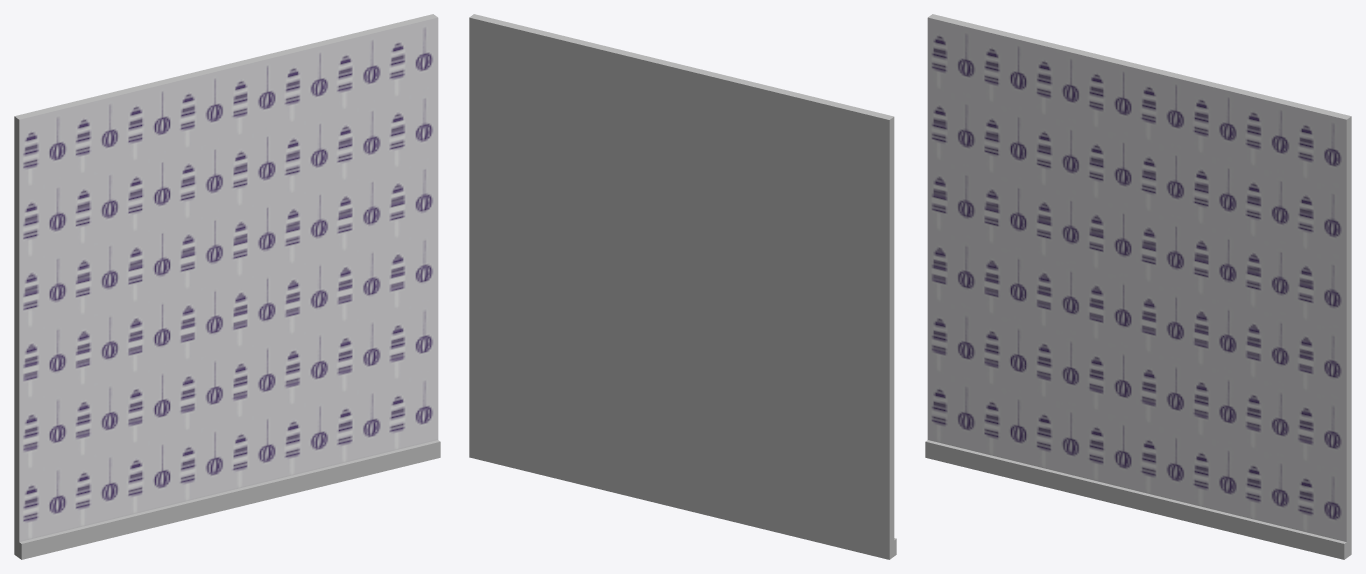
The model's file is Wall_WP_02.FBX.
3 views of the same model, side by side, from view 1: azimuth 30°, elevation 25°; view 2: azimuth 150°, elevation 25°; view 3: azimuth 330°, elevation 25° (orthographic).
Visible parts, largest first — view 1: Wall_WP_01_5m; view 2: Wall_WP_01_5m; view 3: Wall_WP_01_5m.
Part boxes in pixels (x1,y1,x2,y2): Wall_WP_01_5m: [14, 14, 440, 559]; Wall_WP_01_5m: [469, 14, 896, 559]; Wall_WP_01_5m: [925, 14, 1351, 559].
Bounding box in the file's own units: 19685 × 19685 × 591.
